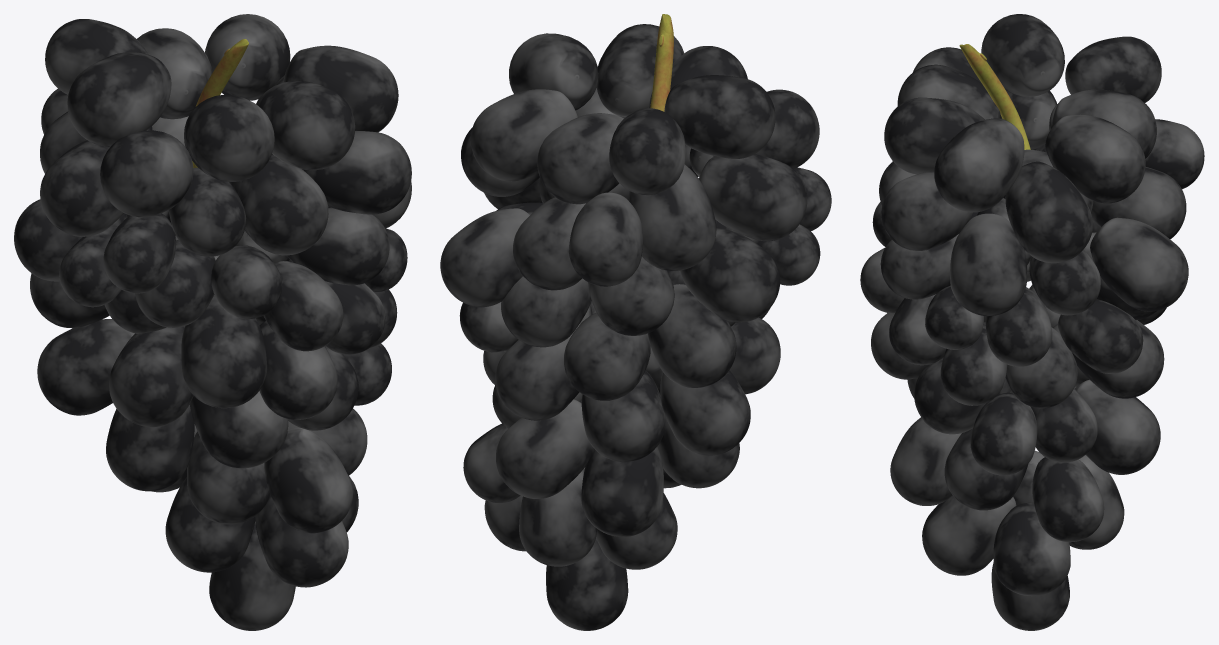
3 views of the same model, side by side, from view 1: azimuth 30°, elevation 25°; view 2: azimuth 150°, elevation 25°; view 3: azimuth 270°, elevation 25° (orthographic). The views are drawn at different scales.
Parts seen in each view (by area): view 1: nurbsToPoly15, nurbsToPoly58, nurbsToPoly20, nurbsToPoly42, nurbsToPoly40, nurbsToPoly14, nurbsToPoly50, nurbsToPoly22, nurbsToPoly39, nurbsToPoly25, nurbsToPoly31, nurbsToPoly56 (+31 smaller); view 2: nurbsToPoly15, nurbsToPoly61, nurbsToPoly49, nurbsToPoly13, nurbsToPoly73, nurbsToPoly18, nurbsToPoly34, nurbsToPoly28, nurbsToPoly46, nurbsToPoly29, nurbsToPoly48, nurbsToPoly22 (+25 smaller); view 3: nurbsToPoly18, nurbsToPoly13, nurbsToPoly33, nurbsToPoly31, nurbsToPoly43, nurbsToPoly15, nurbsToPoly53, nurbsToPoly49, nurbsToPoly65, nurbsToPoly41, nurbsToPoly40, nurbsToPoly25 (+29 smaller).
Part boxes in pixels (bbox=[...]): nurbsToPoly15: bbox=[67, 52, 171, 146]; nurbsToPoly58: bbox=[181, 295, 267, 408]; nurbsToPoly20: bbox=[264, 427, 352, 533]; nurbsToPoly42: bbox=[230, 155, 328, 255]; nurbsToPoly40: bbox=[256, 81, 355, 170]; nurbsToPoly14: bbox=[100, 130, 193, 217]; nurbsToPoly50: bbox=[109, 326, 193, 427]; nurbsToPoly22: bbox=[37, 319, 134, 415]; nurbsToPoly39: bbox=[184, 94, 274, 181]; nurbsToPoly25: bbox=[302, 130, 411, 214]; nurbsToPoly31: bbox=[283, 45, 398, 132]; nurbsToPoly56: bbox=[106, 405, 194, 491]; nurbsToPoly15: bbox=[664, 75, 775, 158]; nurbsToPoly61: bbox=[699, 154, 807, 241]; nurbsToPoly49: bbox=[496, 399, 594, 498]; nurbsToPoly13: bbox=[470, 89, 577, 181]; nurbsToPoly73: bbox=[680, 228, 780, 322]; nurbsToPoly18: bbox=[440, 208, 529, 307]; nurbsToPoly34: bbox=[628, 164, 716, 270]; nurbsToPoly28: bbox=[648, 284, 736, 387]; nurbsToPoly46: bbox=[581, 447, 663, 536]; nurbsToPoly29: bbox=[537, 113, 623, 204]; nurbsToPoly48: bbox=[569, 192, 642, 286]; nurbsToPoly22: bbox=[660, 370, 750, 455]; nurbsToPoly18: bbox=[1090, 217, 1188, 311]; nurbsToPoly13: bbox=[1045, 114, 1145, 203]; nurbsToPoly33: bbox=[1005, 161, 1092, 263]; nurbsToPoly31: bbox=[934, 118, 1024, 212]; nurbsToPoly43: bbox=[950, 213, 1026, 316]; nurbsToPoly15: bbox=[981, 14, 1064, 96]; nurbsToPoly53: bbox=[993, 502, 1070, 596]; nurbsToPoly49: bbox=[1075, 379, 1160, 474]; nurbsToPoly65: bbox=[1032, 457, 1104, 542]; nurbsToPoly41: bbox=[922, 495, 1016, 575]; nurbsToPoly40: bbox=[884, 97, 984, 174]; nurbsToPoly25: bbox=[881, 171, 972, 250].
Bounding box in the file's own units: 4.31 × 7.44 × 4.11.
Materials: 2 (2 with a texture image).
